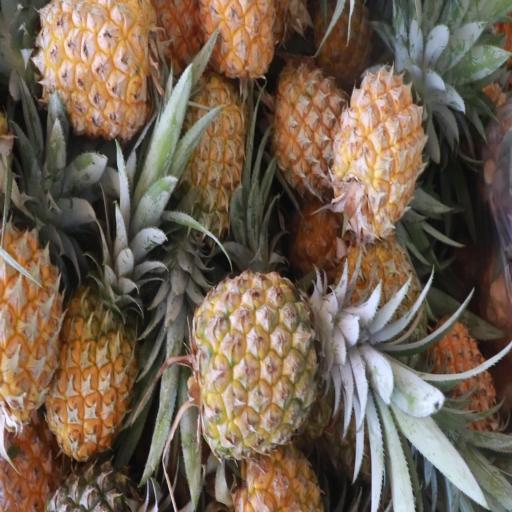------------------------------: (176, 265, 375, 455)
Pineapple - v8 v1: (51, 204, 149, 470), (332, 44, 438, 240), (22, 3, 168, 136), (172, 72, 251, 231), (268, 45, 342, 186)
